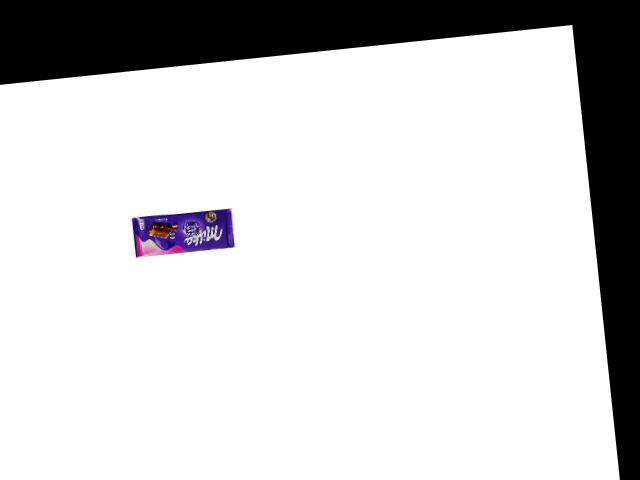chocolate: (131, 206, 235, 258)
